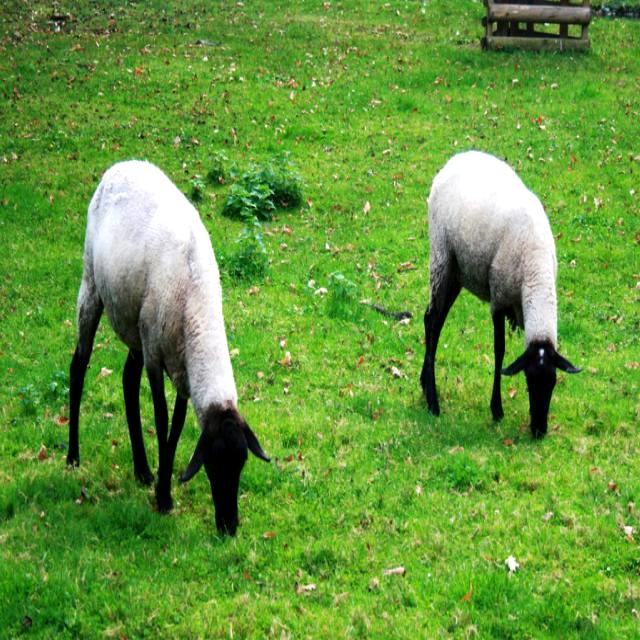sheep: (68, 158, 268, 534), (419, 148, 578, 439)
